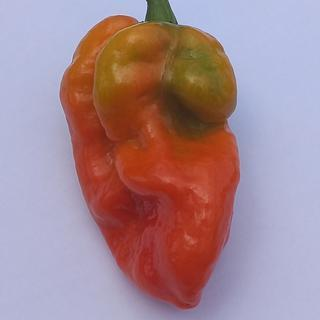Grade-A: (56, 13, 241, 310)
